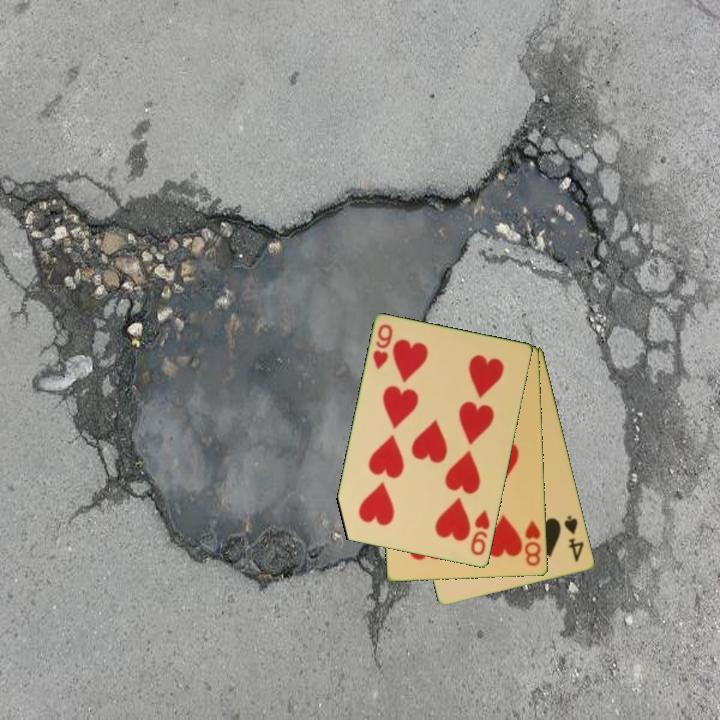4s: (561, 512, 587, 565)
8h: (521, 517, 544, 569)
9h: (369, 321, 396, 373), (467, 506, 493, 559)
